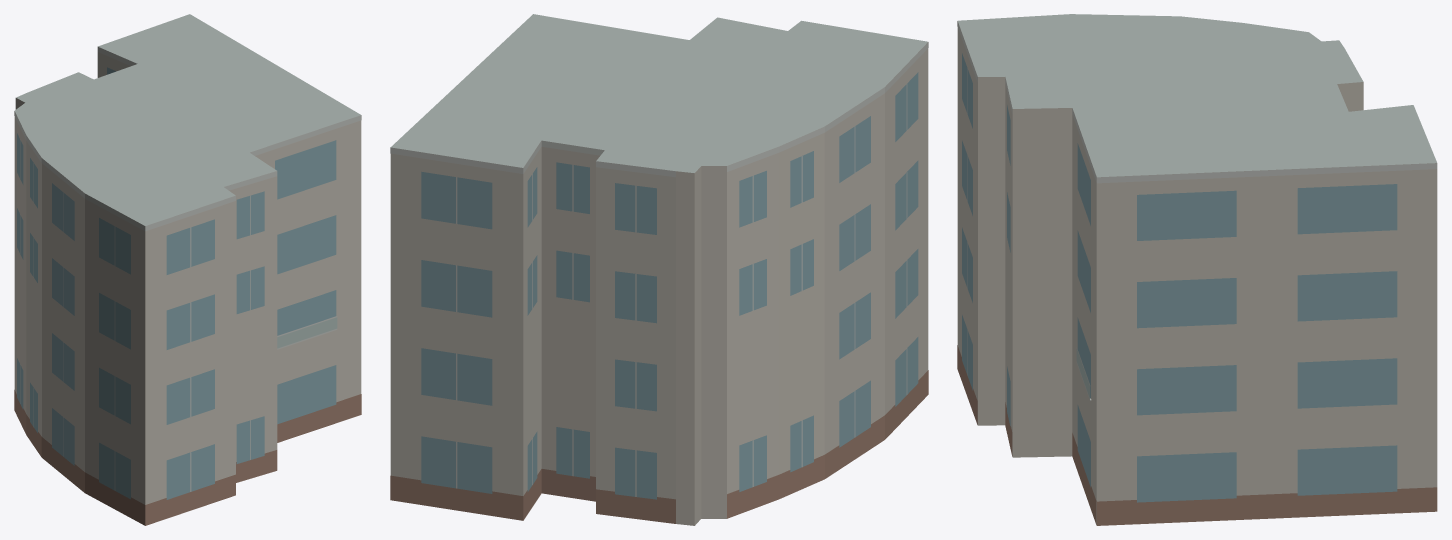
The model's file is survey-upis-33007075.glb.
The picture shows the model from 3 angles, left to right: view 1: azimuth 30°, elevation 25°; view 2: azimuth 150°, elevation 25°; view 3: azimuth 270°, elevation 25°; orthographic projection. The views are drawn at different scales.
Visible parts, largest first — view 1: survey-upis-33007075.tmp; view 2: survey-upis-33007075.tmp; view 3: survey-upis-33007075.tmp.
Part boxes in pixels (x1,y1,x2,y2): survey-upis-33007075.tmp: [14, 14, 361, 525]; survey-upis-33007075.tmp: [390, 14, 928, 525]; survey-upis-33007075.tmp: [957, 14, 1437, 525].
Bounding box in the file's own units: 14.07 × 14 × 17.47.
